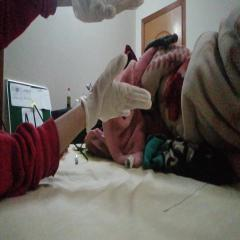gloved: (84, 52, 152, 130), (72, 0, 144, 23)
